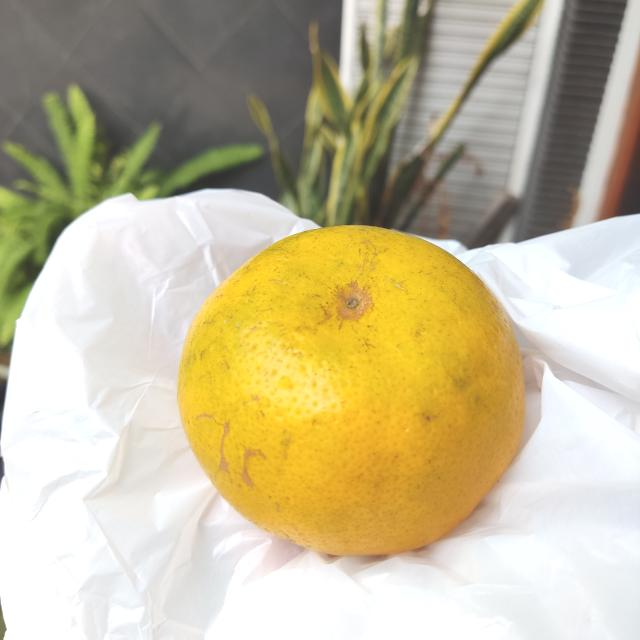orange: (176, 223, 538, 565)
